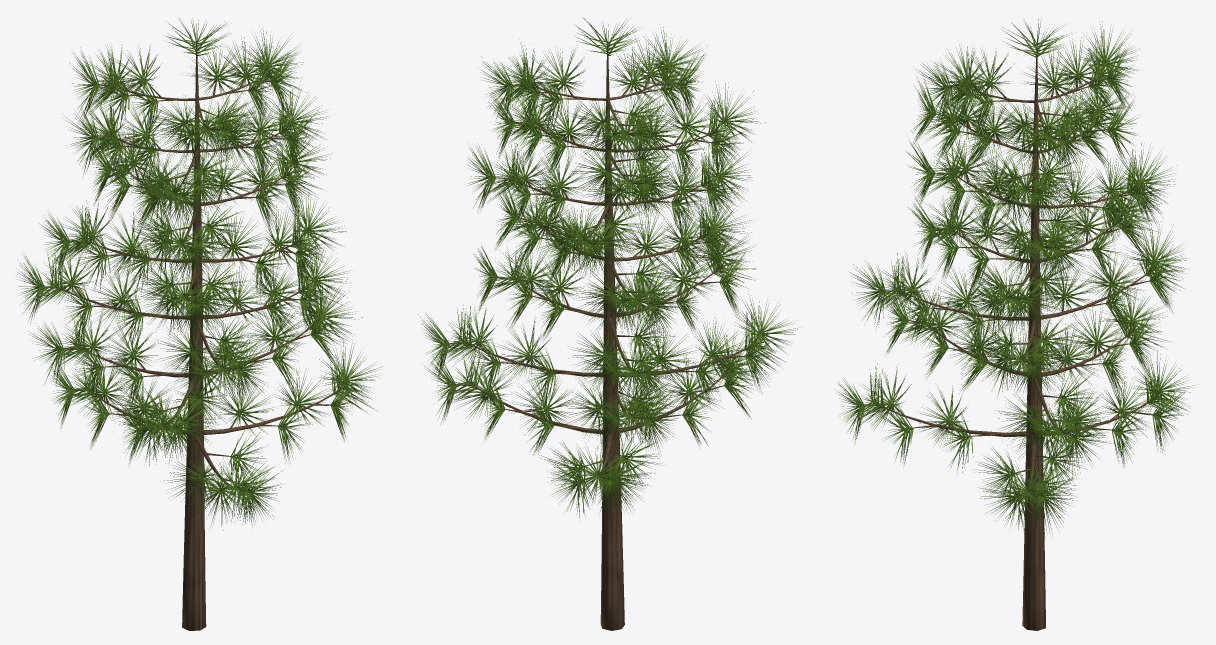
The model's file is pine.glb.
The picture shows the model from 3 angles, left to right: view 1: azimuth 30°, elevation 25°; view 2: azimuth 150°, elevation 25°; view 3: azimuth 270°, elevation 25°; orthographic projection.
Parts seen in each view (by area): view 1: Foliage, Bark; view 2: Foliage, Bark; view 3: Foliage, Bark.
Part boxes in pixels (box(x1,y1,x2,y2)): Foliage: box(16, 18, 380, 530); Bark: box(45, 40, 343, 630); Foliage: box(420, 17, 799, 522); Bark: box(450, 41, 758, 630); Foliage: box(836, 17, 1194, 537); Bark: box(866, 42, 1155, 630).
Bounding box in the file's own units: 1.35 × 2.45 × 1.37.
2 materials, 2 textured.
